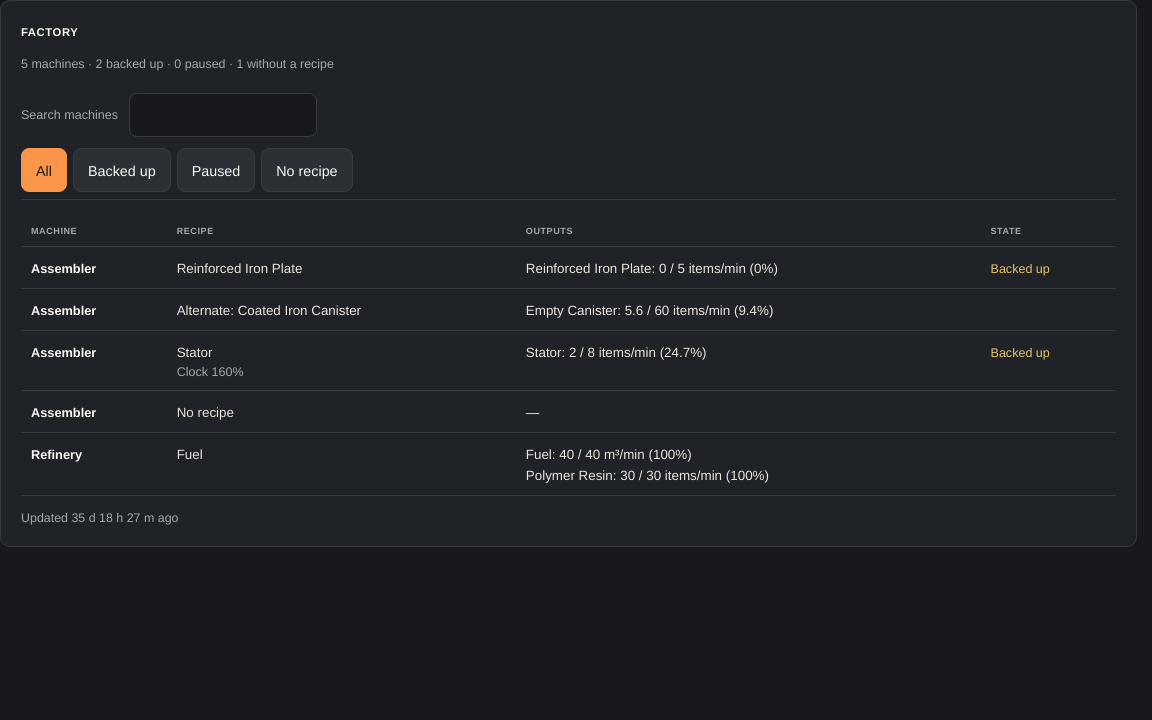
Test: FactoryPanel rate units with search › does not match machines by the unit text
In the search field labelled "Search machines": point(223, 114) 129,92 -> 317,136, type "m³/min"
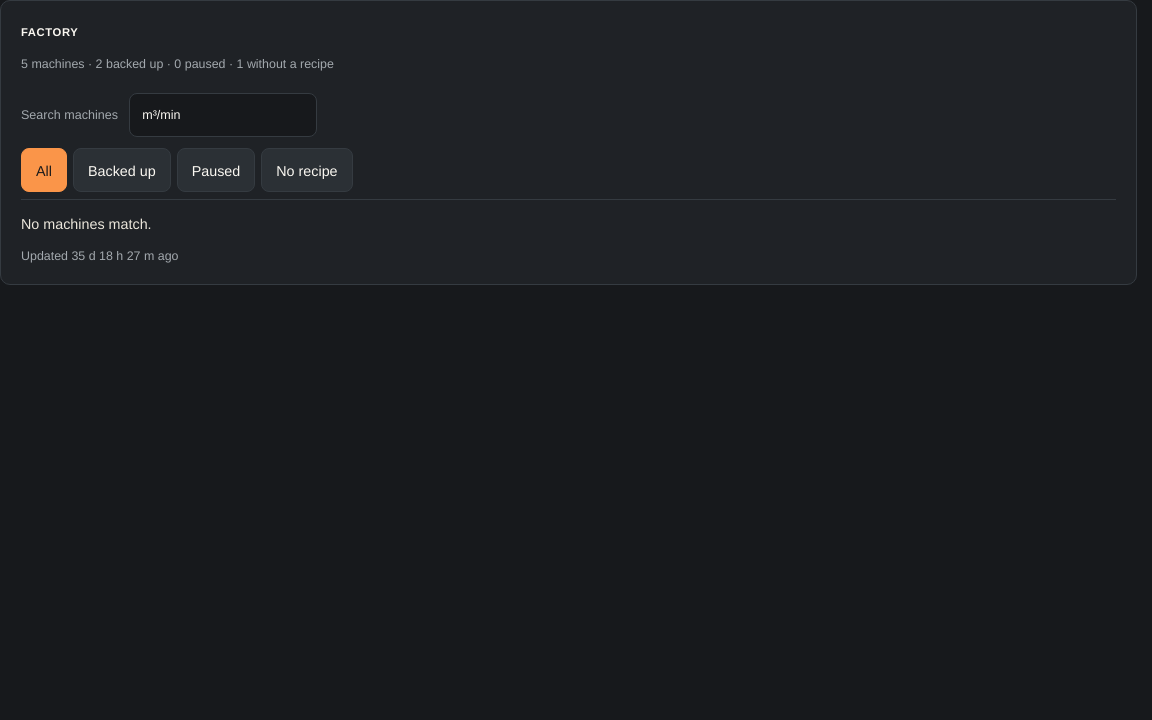
Result: the text "No machines match." is shown at 21,214 -> 152,232
